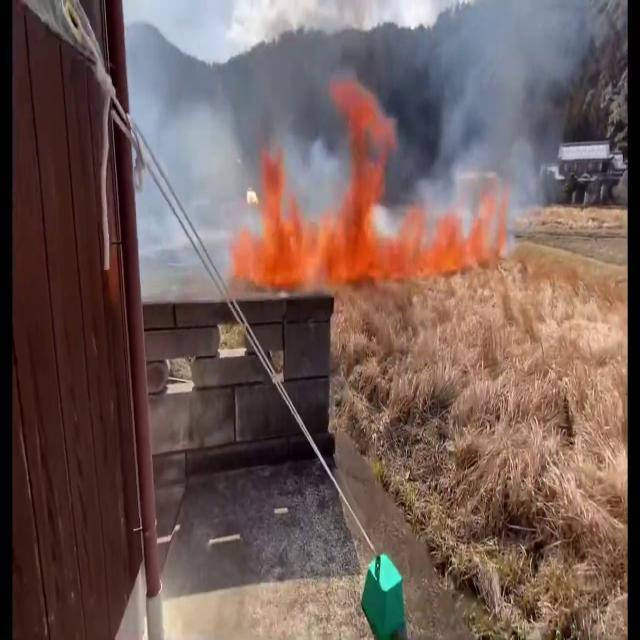Fire: (235, 92, 401, 294), (381, 186, 505, 278)
Smoke: (128, 4, 255, 281), (418, 0, 584, 201)
